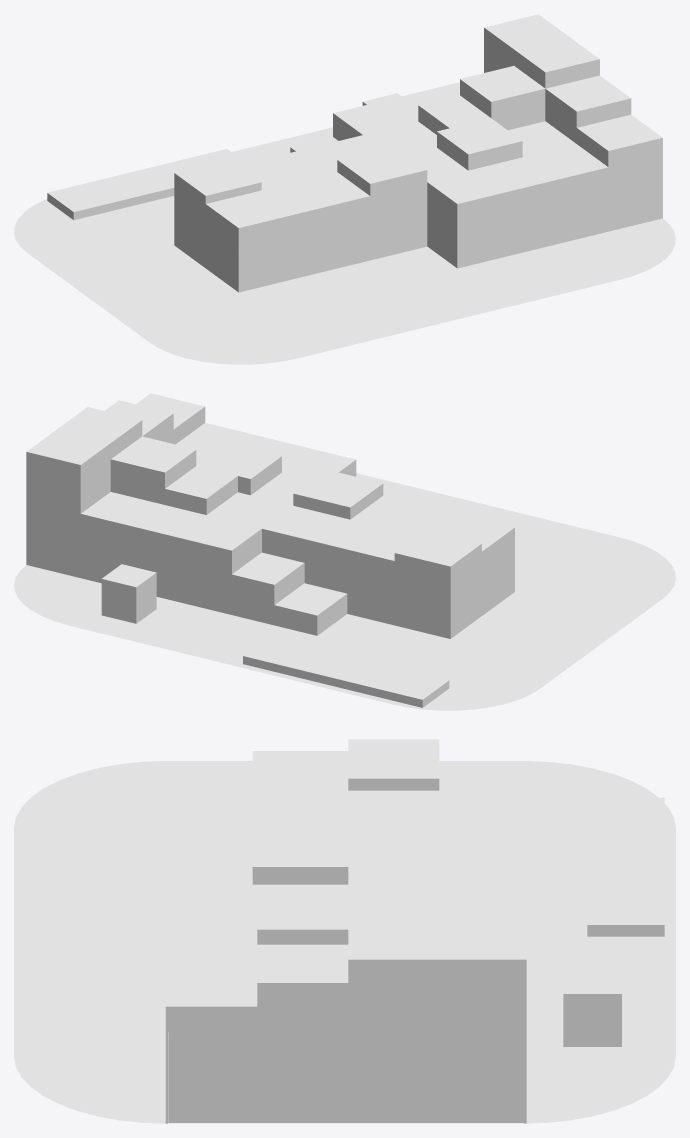
The model's file is m7-zemin-remix-2.glb.
The picture shows the model from 3 angles, top to bottom: view 1: azimuth 30°, elevation 25°; view 2: azimuth 150°, elevation 25°; view 3: azimuth 270°, elevation 25°; orthographic projection. The views are drawn at different scales.
Visible parts, largest first — view 1: Cube.002; view 2: Cube.002; view 3: Cube.002.
Boxes of the visible parts, x1=… form: Cube.002: x1=14, y1=14, x2=675, y2=364; Cube.002: x1=14, y1=393, x2=675, y2=710; Cube.002: x1=14, y1=739, x2=675, y2=1123.
Size of the model in its own units: 6.6 by 1.39 by 5.09.
Materials: 1 (1 with a texture image).
